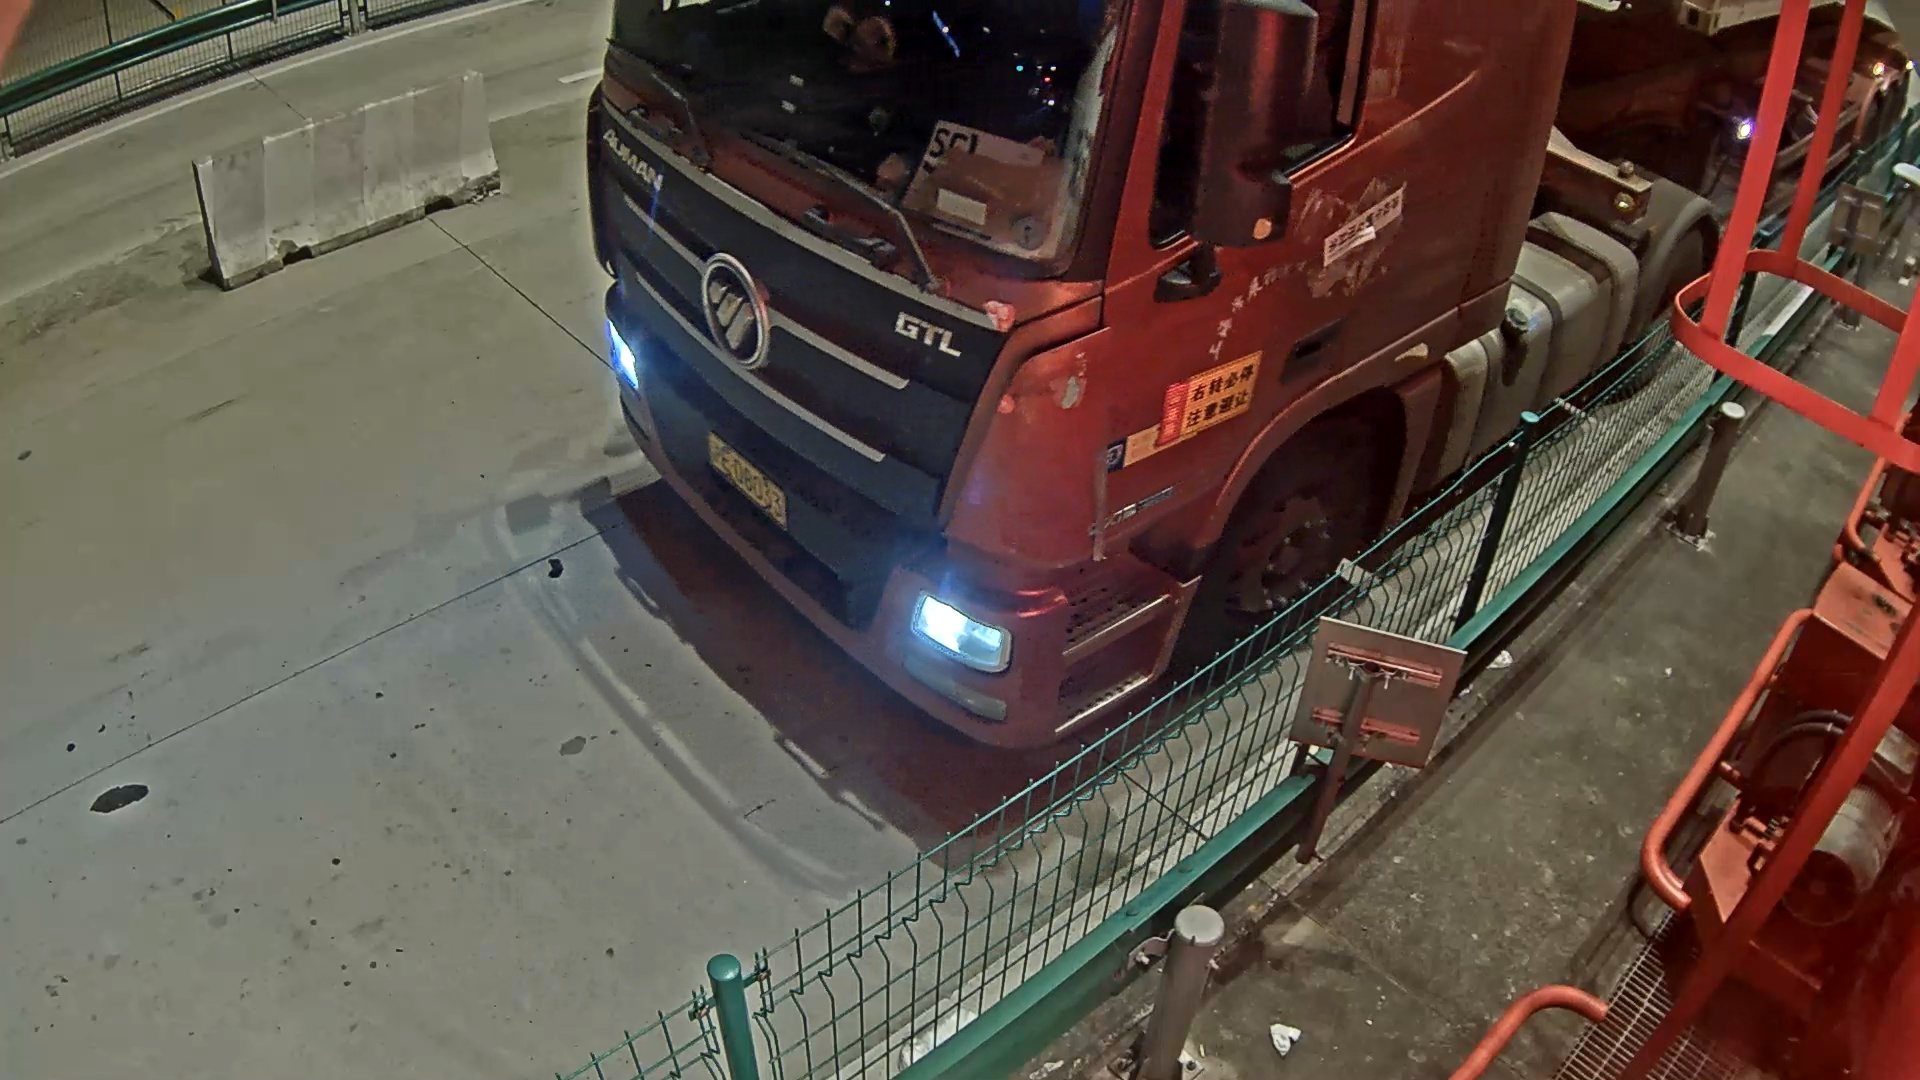head: (580, 11, 1413, 761)
plate: (693, 426, 806, 538)
